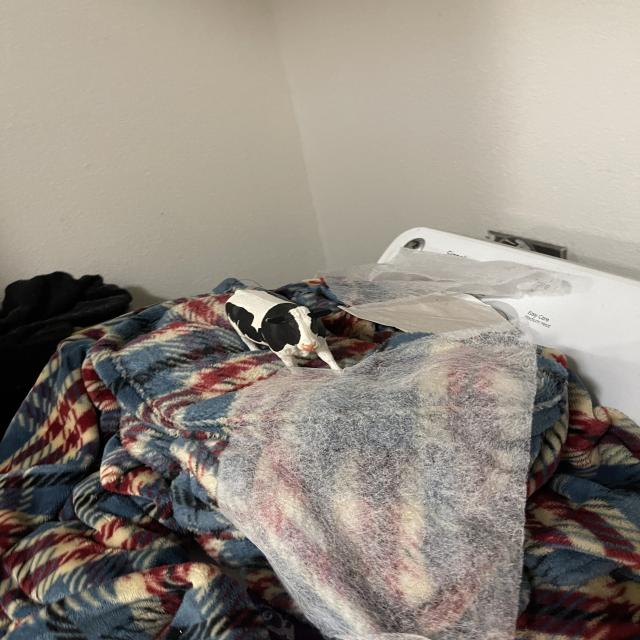cow: (212, 279, 357, 384)
